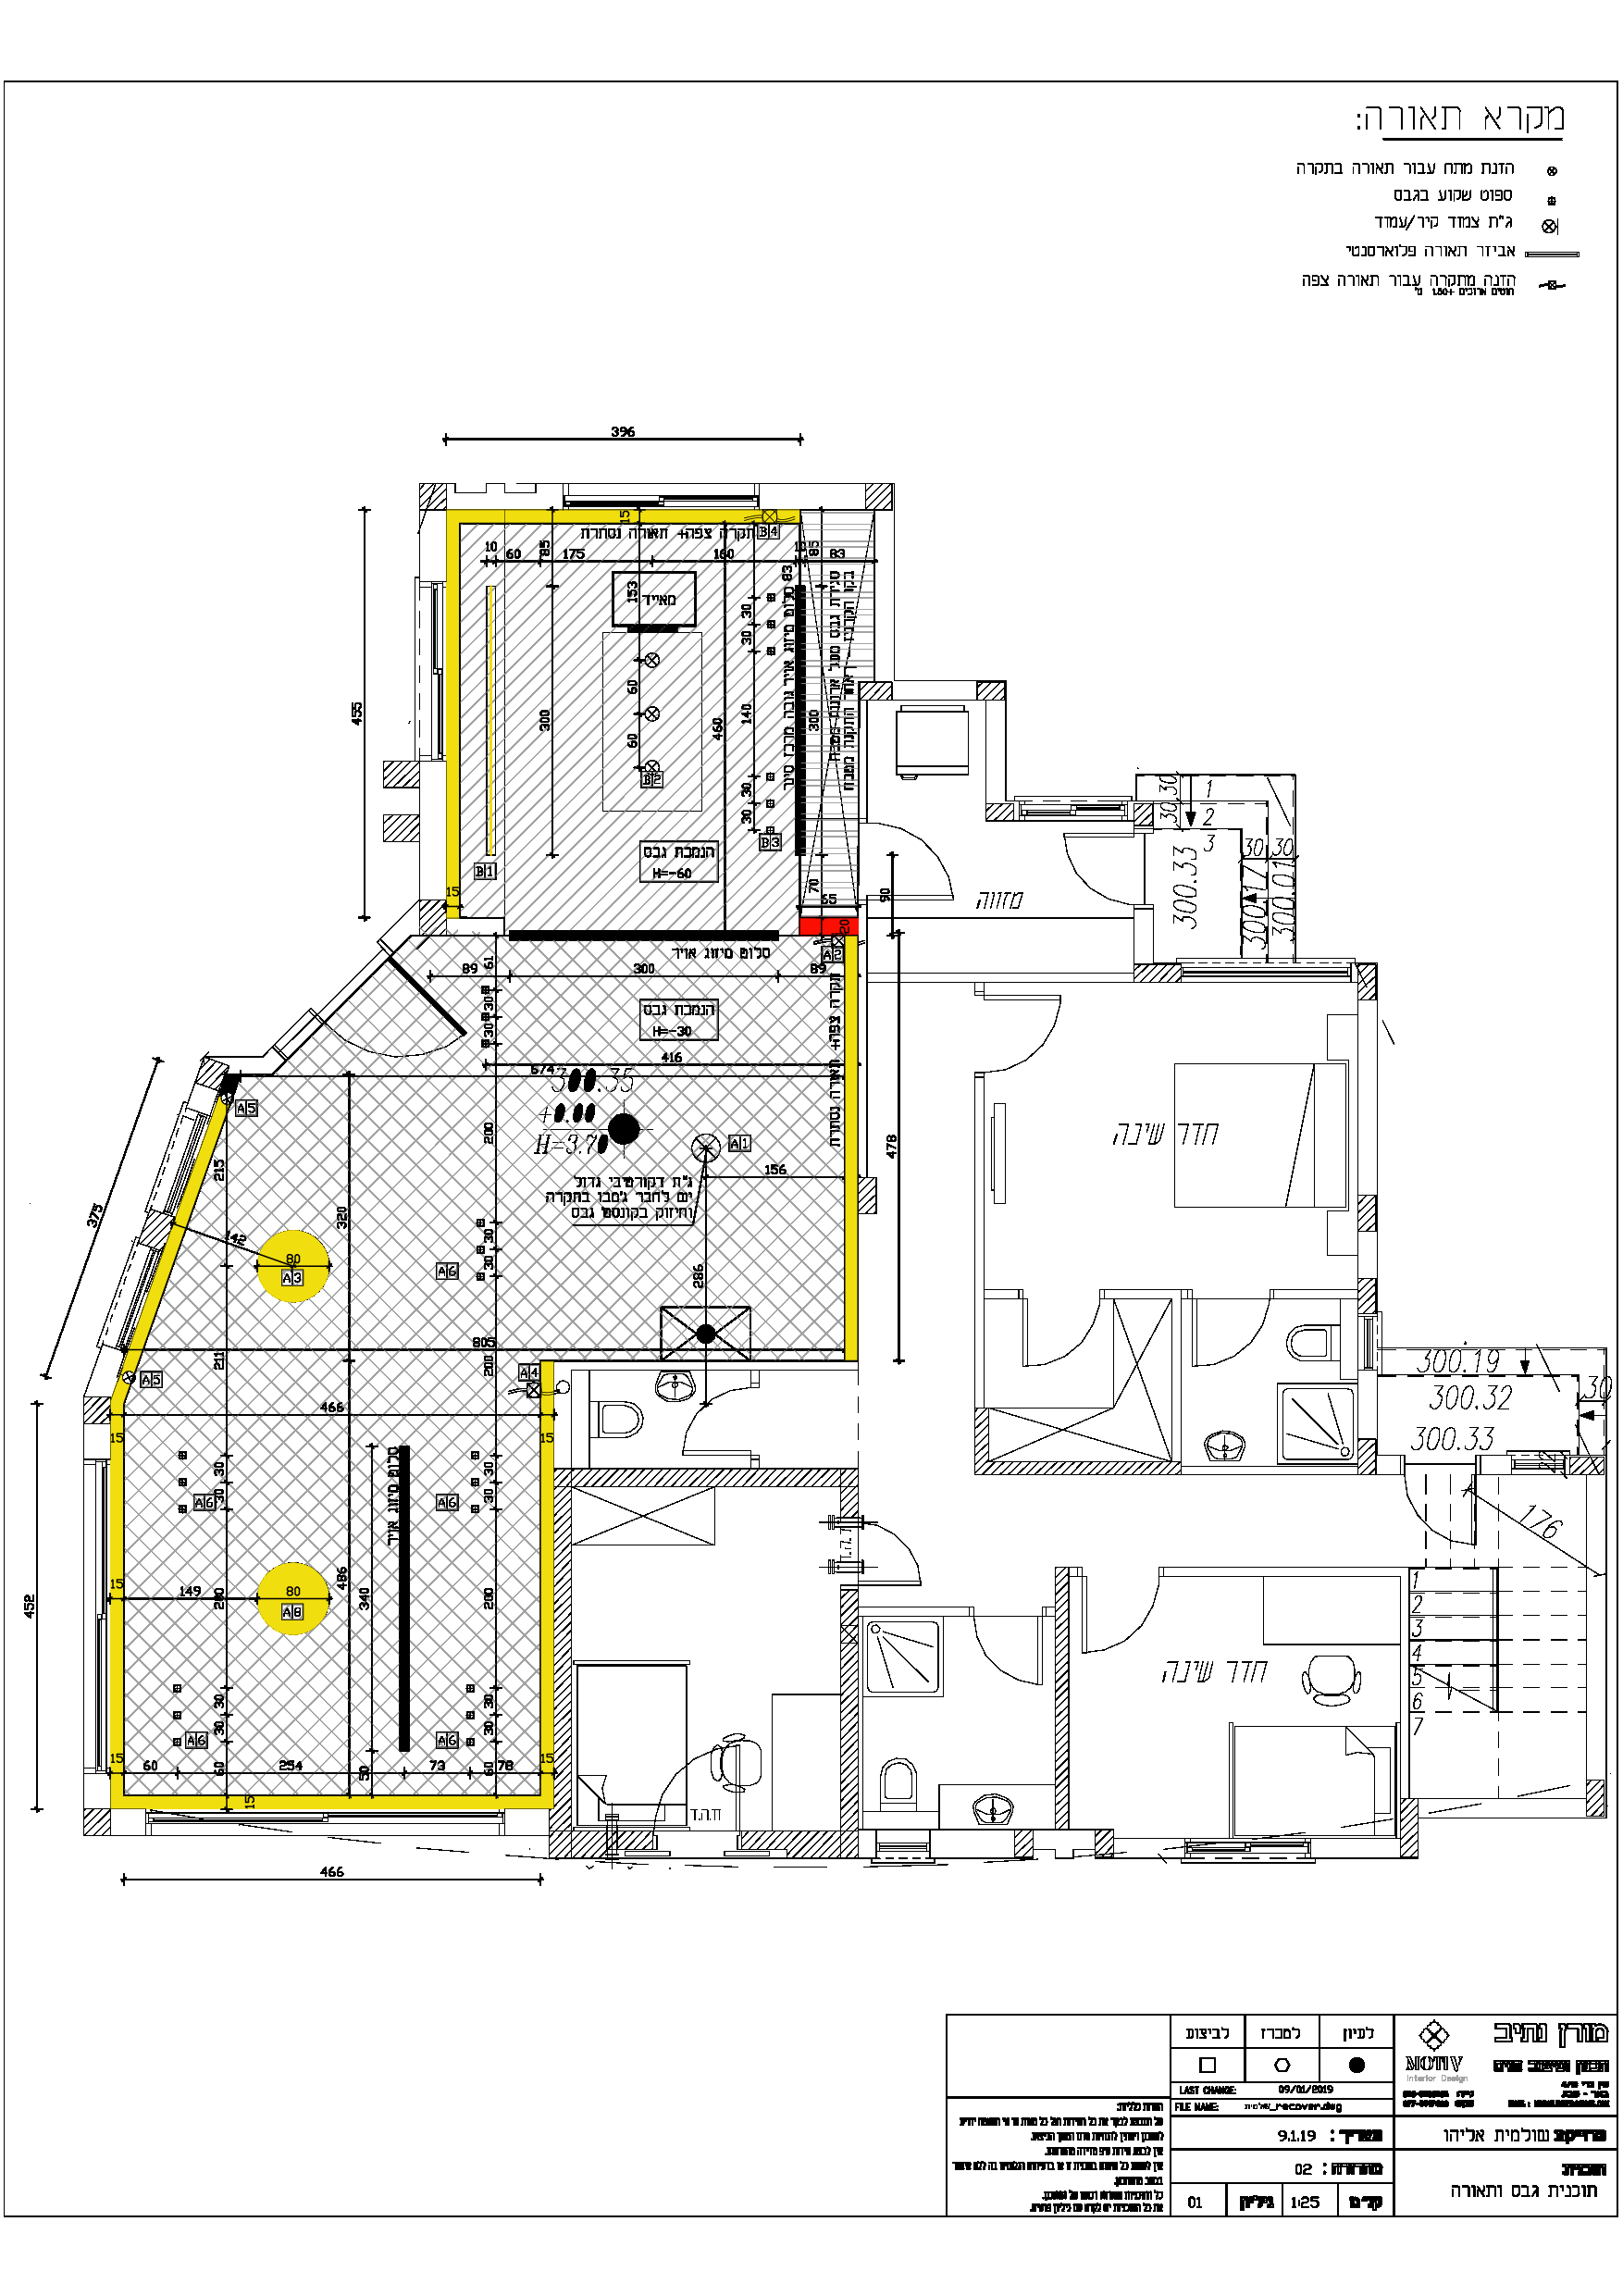door: (894, 805, 963, 912), (991, 987, 1068, 1077), (959, 1621, 1045, 1699), (862, 1514, 940, 1593), (1054, 826, 1126, 906), (1186, 1305, 1268, 1375), (1078, 1590, 1159, 1660), (1012, 1312, 1098, 1370)
wall: (583, 1472, 857, 1486), (557, 1484, 569, 1783), (840, 1646, 855, 1825), (978, 1460, 1177, 1474)
window: (1182, 954, 1358, 989), (1186, 1829, 1312, 1871), (1013, 789, 1133, 831), (875, 1825, 931, 1873)
